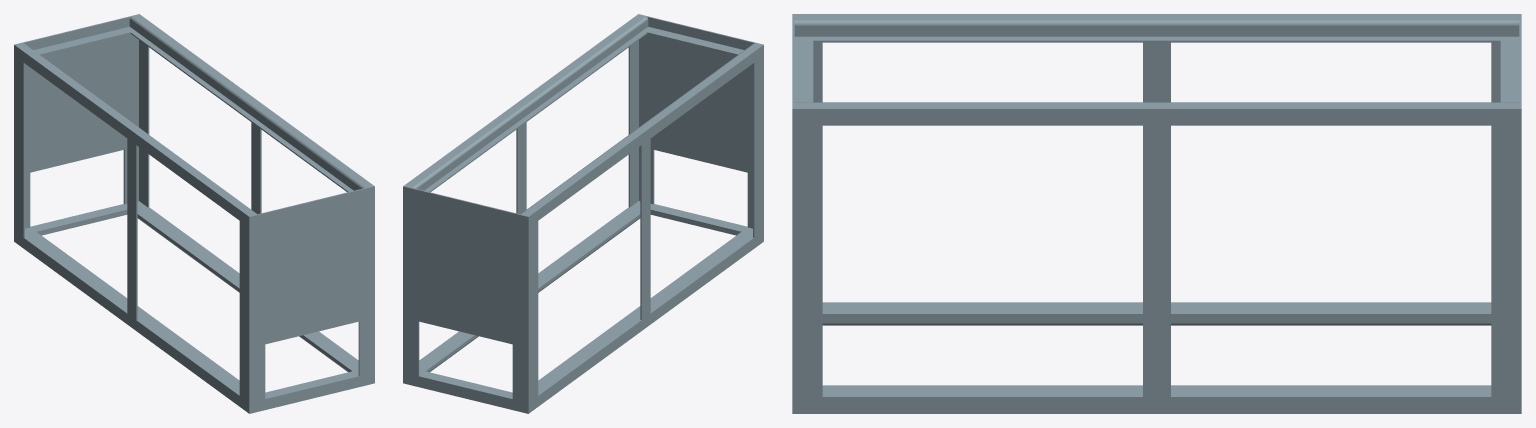
File: rack-alu.fbx
The picture shows the model from 3 angles, left to right: view 1: azimuth 30°, elevation 25°; view 2: azimuth 150°, elevation 25°; view 3: azimuth 270°, elevation 25°; orthographic projection. The views are drawn at different scales.
Parts seen in each view (by area): view 1: Untitled; view 2: Untitled; view 3: Untitled.
Part boxes in pixels (x1,y1,x2,y2): Untitled: (14,14,374,413); Untitled: (403,14,763,413); Untitled: (792,14,1521,413).
Size of the model in its own units: 1543 by 2315 by 5016.
